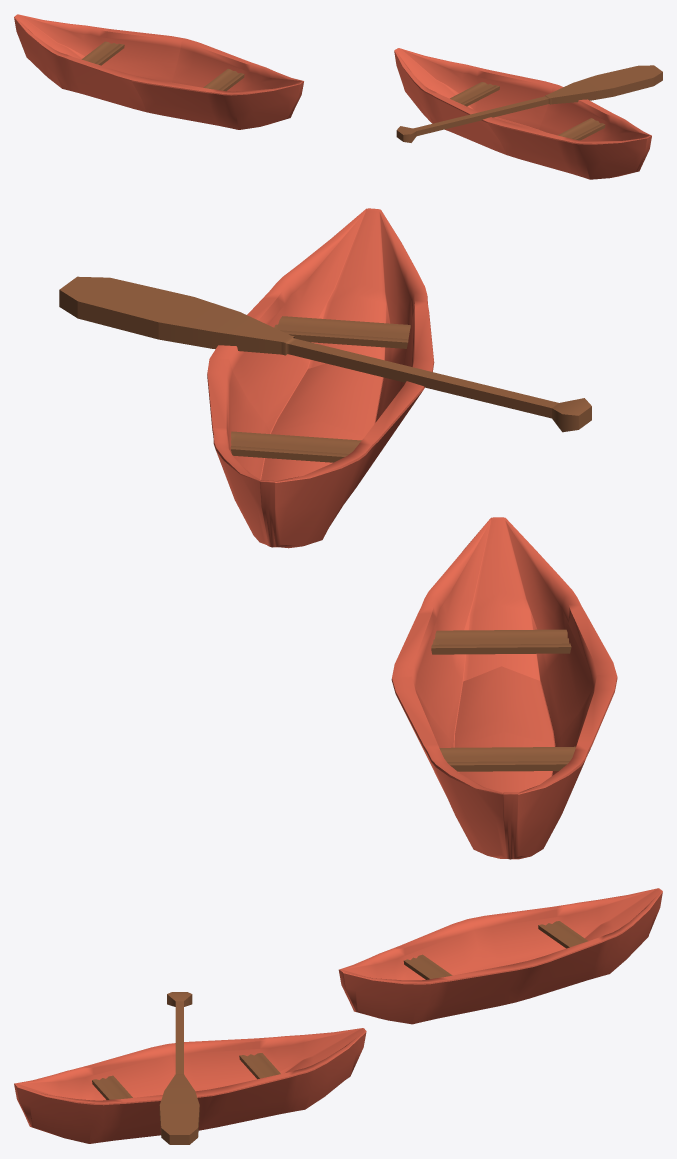
Rendered from canoes.fbx.
3 views of the same model, one above another, from view 1: azimuth 30°, elevation 25°; view 2: azimuth 150°, elevation 25°; view 3: azimuth 270°, elevation 25° (orthographic). The views are drawn at different scales.
Visible parts, largest first — view 1: canoe_geo (×2), paddle_geo, board_R (×2), board_L (×2); view 2: canoe_geo (×2), paddle_geo, board_L (×2), board_R (×2); view 3: canoe_geo (×2), paddle_geo, board_R (×2), board_L (×2).
Part boxes in pixels (x1,y1,x2,y2): canoe_geo (×2): (14, 14, 651, 179); paddle_geo: (396, 65, 662, 142); board_R (×2): (81, 41, 499, 106); board_L (×2): (203, 69, 605, 140); canoe_geo (×2): (207, 208, 617, 859); paddle_geo: (59, 276, 591, 432); board_L (×2): (274, 316, 571, 654); board_R (×2): (230, 431, 575, 771); canoe_geo (×2): (14, 888, 662, 1143); paddle_geo: (159, 992, 199, 1144); board_R (×2): (239, 921, 588, 1079); board_L (×2): (92, 954, 452, 1099).
Size of the model in its own units: 0.0324 by 0.00385 by 0.0366.
